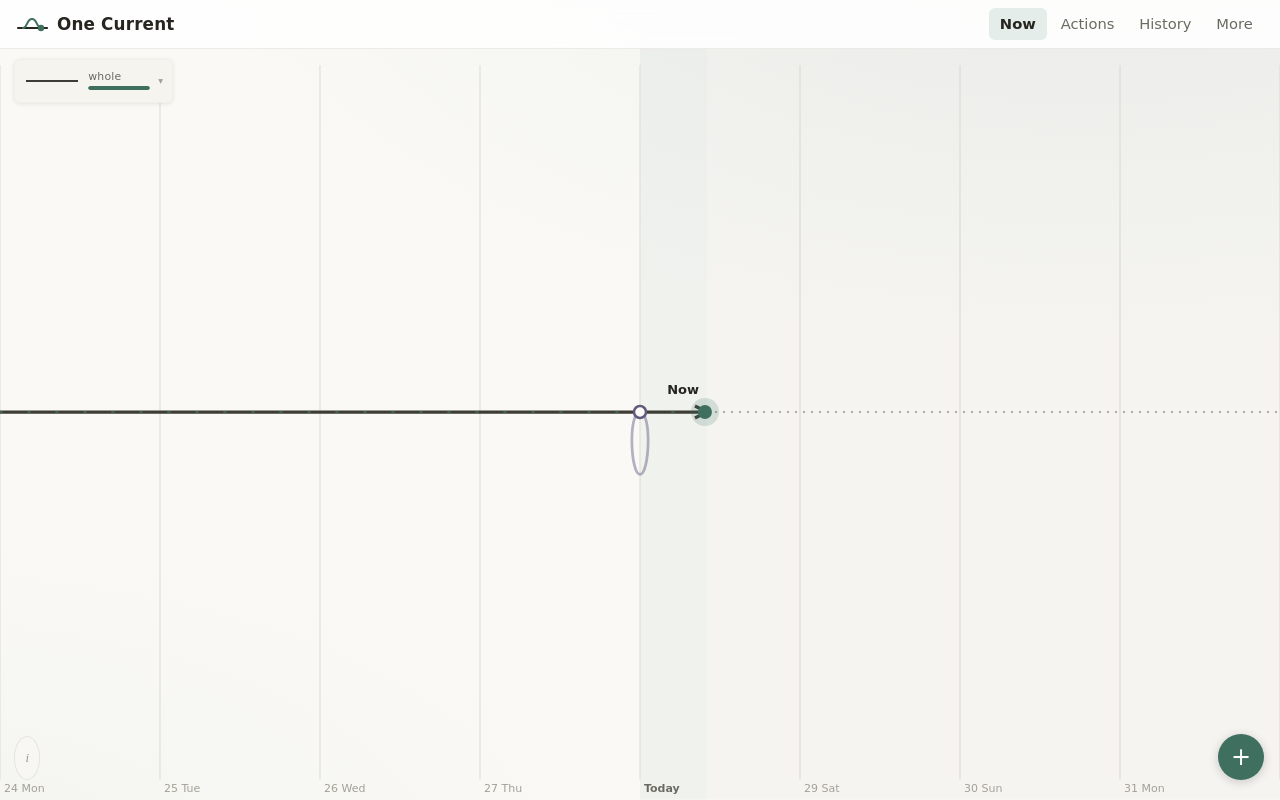
Test: app flows › keeps integrated threads out of the actions panel
The width and height of the screenshot is (1280, 800).
Click the button "Actions".
click(1088, 24)  # box [1050, 8, 1126, 40]
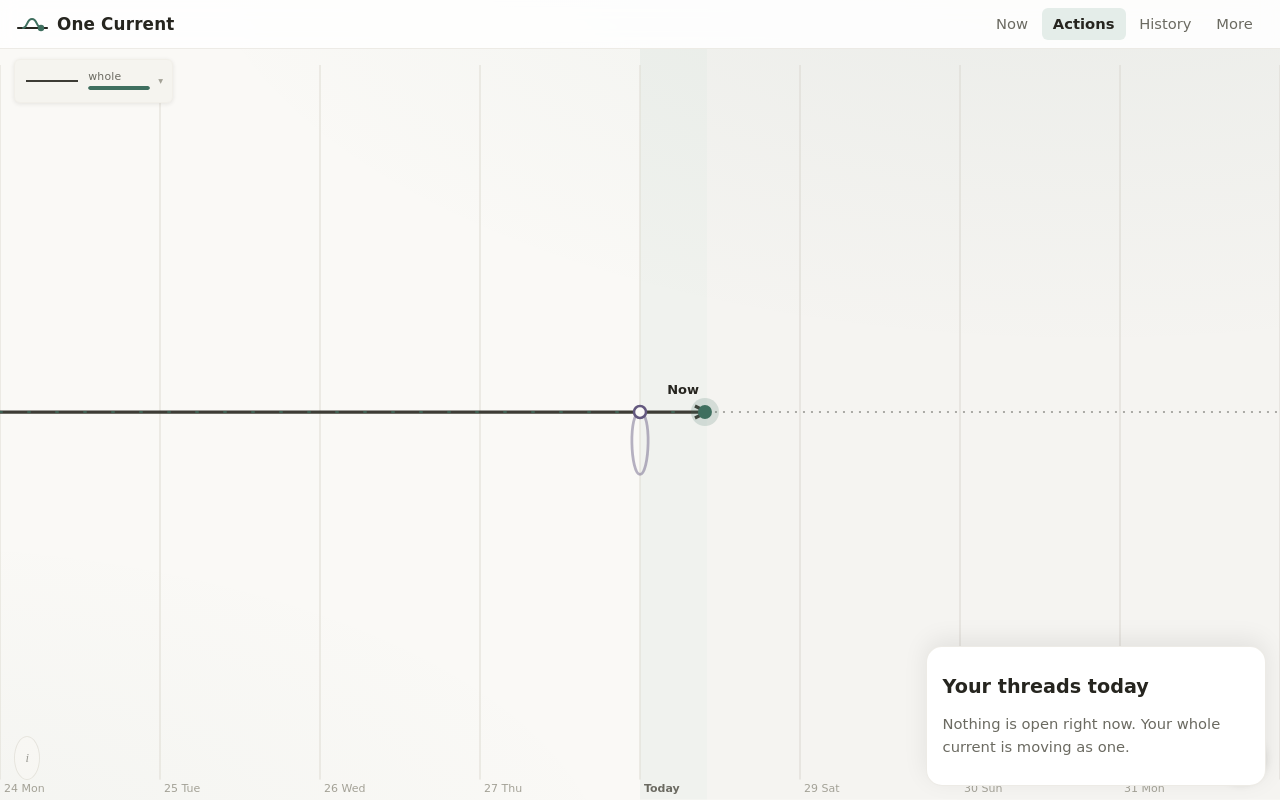
Result: the text "Your threads today" is shown at [943, 675, 1149, 698]
Result: the text "Nothing is open right now" is shown at [943, 715, 1220, 755]
